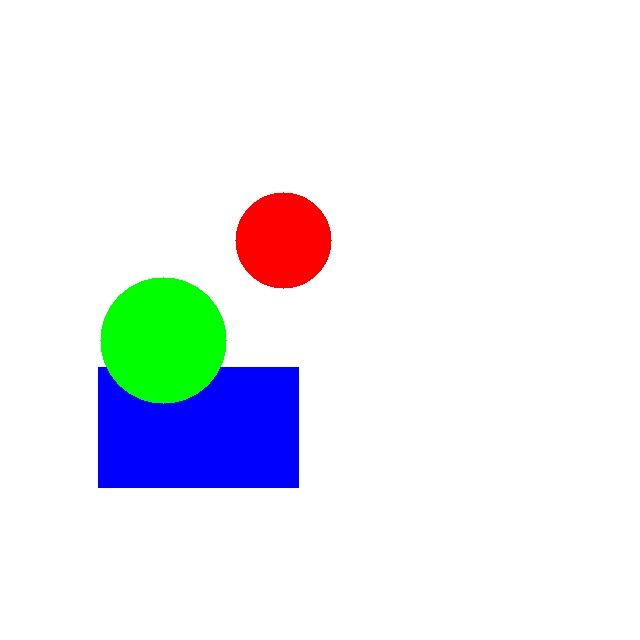cartao: (98, 367, 298, 487)
rosca_externa: (100, 277, 226, 403)
rosca_interna: (235, 192, 331, 288)
